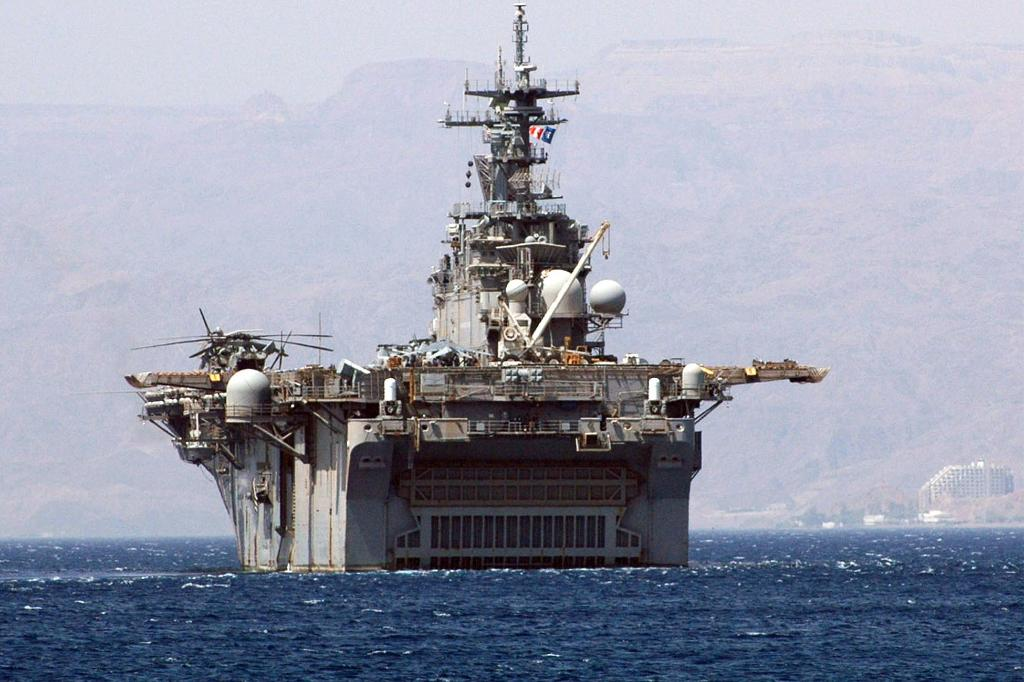Warship: (107, 4, 849, 588)
